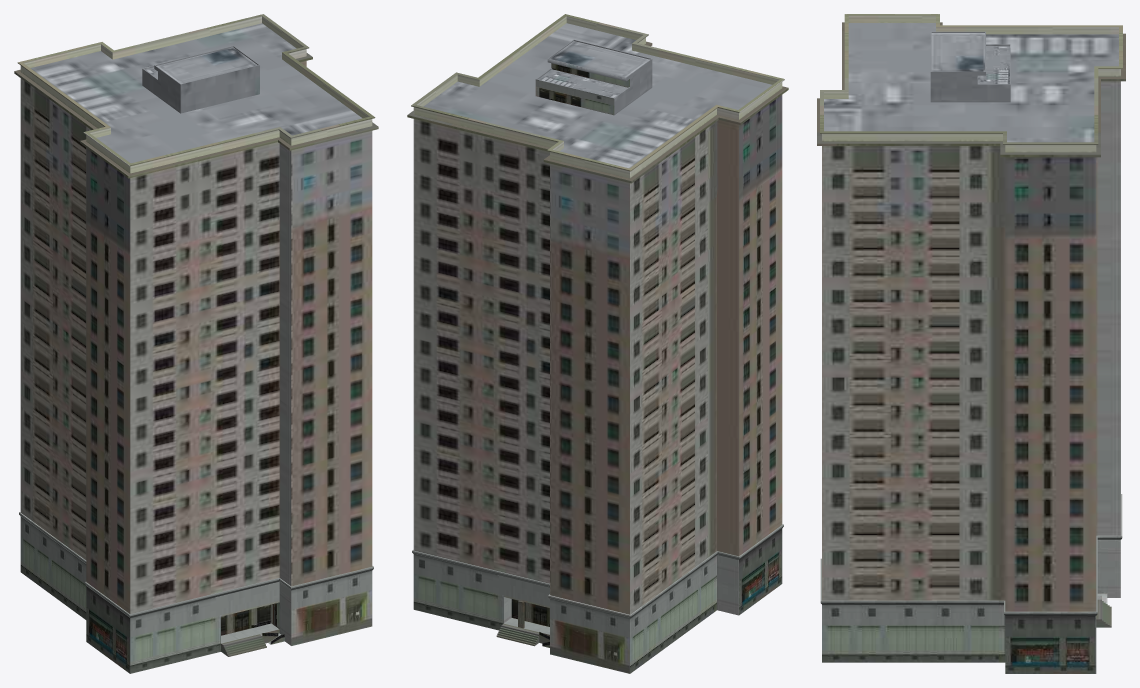
3 renders of one model, left to right at view 1: azimuth 30°, elevation 25°; view 2: azimuth 150°, elevation 25°; view 3: azimuth 270°, elevation 25°, orthographic. The views are drawn at different scales.
Parts seen in each view (by area): view 1: HN781_17T8TrungHoaNhanChinh; view 2: HN781_17T8TrungHoaNhanChinh; view 3: HN781_17T8TrungHoaNhanChinh.
Part boxes in pixels (left/top/right/bottom): HN781_17T8TrungHoaNhanChinh: left=14, top=14, right=378, bottom=673; HN781_17T8TrungHoaNhanChinh: left=407, top=14, right=788, bottom=673; HN781_17T8TrungHoaNhanChinh: left=817, top=14, right=1125, bottom=673.
Size of the model in its own units: 40.5 by 79.89 by 39.9.
Materials: 1 (1 with a texture image).
